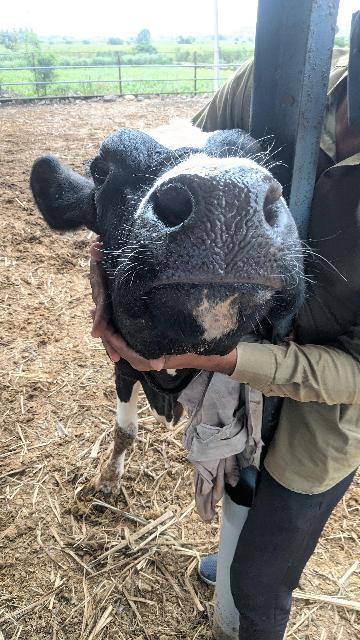Muzzle: (149, 156, 293, 300)
